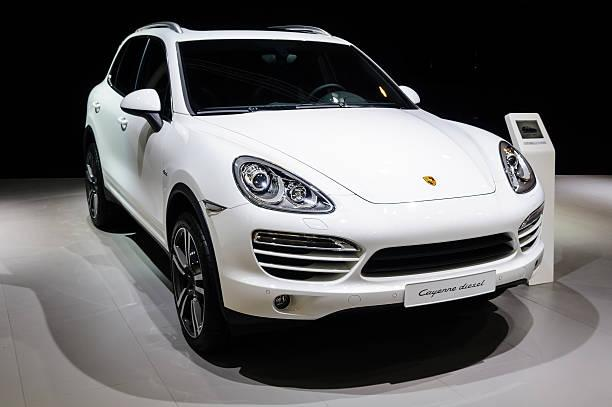porsche: (417, 170, 446, 193)
